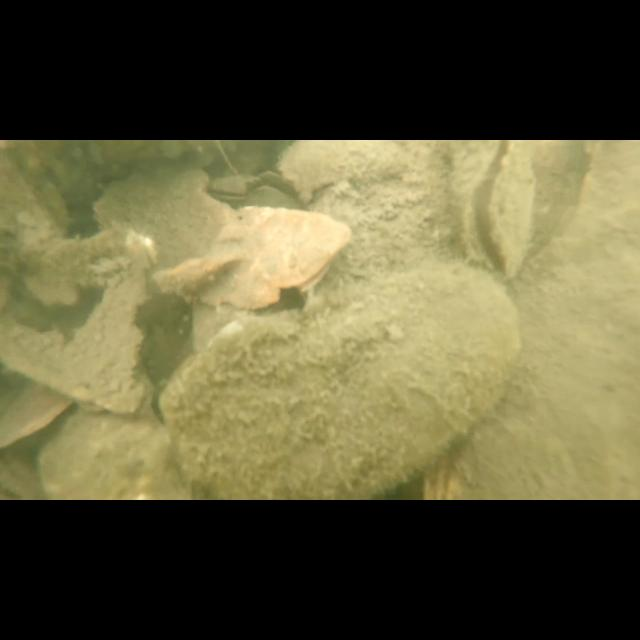Oyster-Closed: (158, 264, 520, 500), (165, 204, 352, 308), (36, 380, 192, 500)
Oyster-Open: (462, 140, 536, 284), (202, 172, 258, 204)
